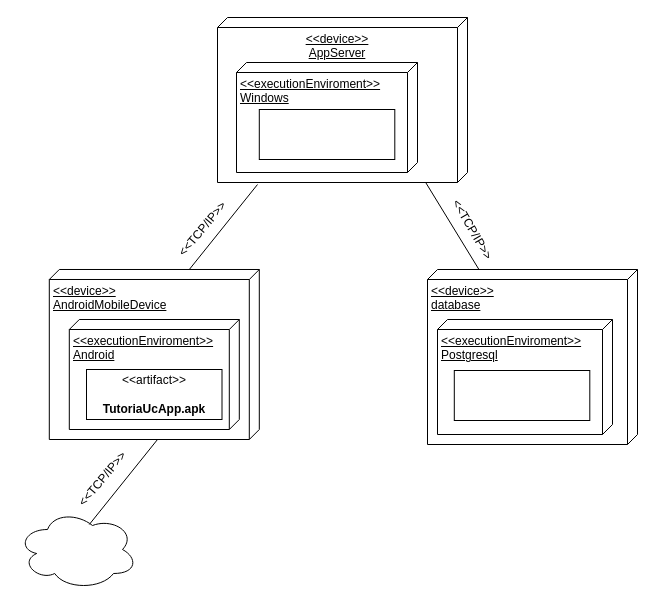
Image size: 655x607. Some labels were removed from this diagram. Here are the shapes that lost their labels. From the top down, the centre of each, then its label:
At (x=326, y=134): "<<artifact>> TutoriaUcApp.dart".
At (x=521, y=395): "<<artifact>> TutoriaUcApp.sql".
At (x=77, y=549): "API CLIENTE".
